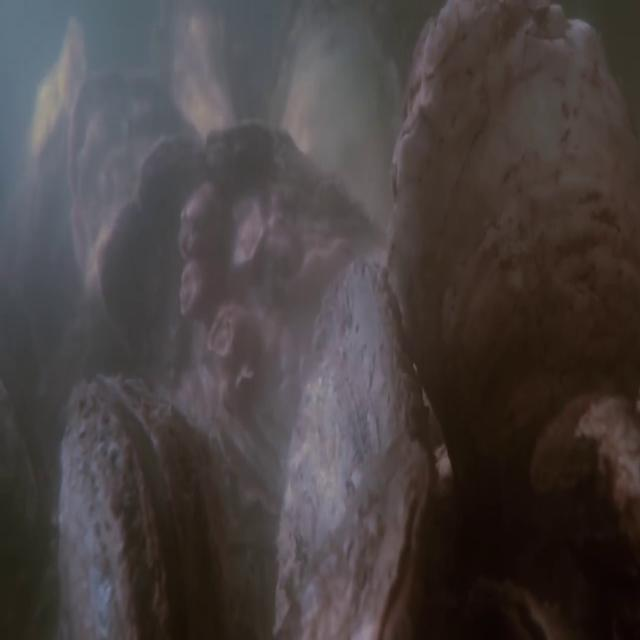Oyster-Closed: (386, 5, 638, 484), (271, 254, 432, 633), (57, 372, 225, 636), (266, 1, 399, 239), (473, 570, 566, 637)
Oyster-Indeterminate: (96, 116, 442, 639), (66, 64, 200, 273), (165, 6, 245, 147)
